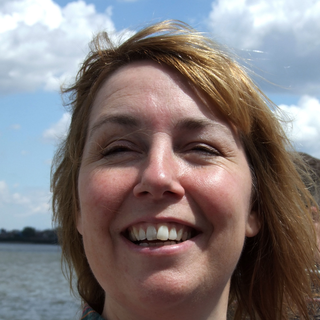eye: (97, 138, 143, 163), (179, 139, 225, 163)
